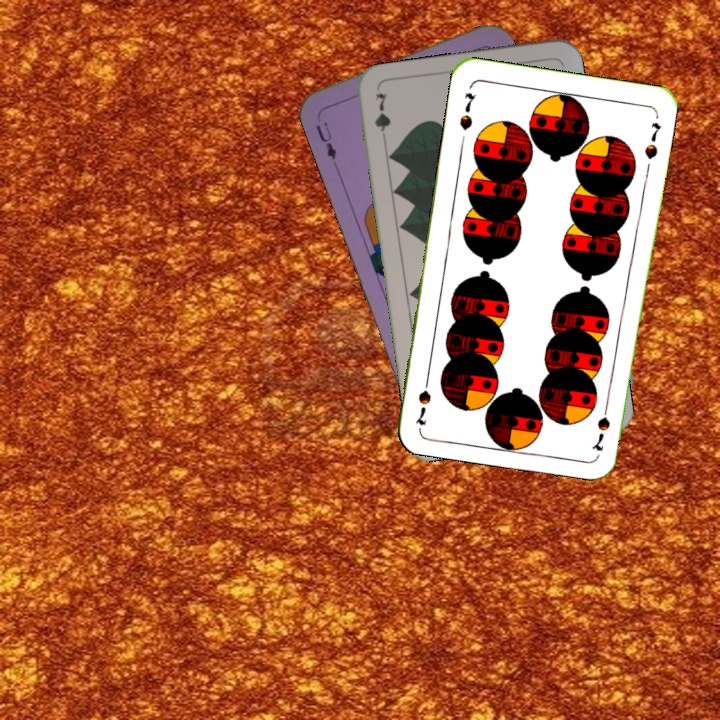EU: (312, 117, 340, 163)
G7: (371, 89, 393, 148)
S7: (589, 396, 613, 454), (455, 88, 478, 133)
